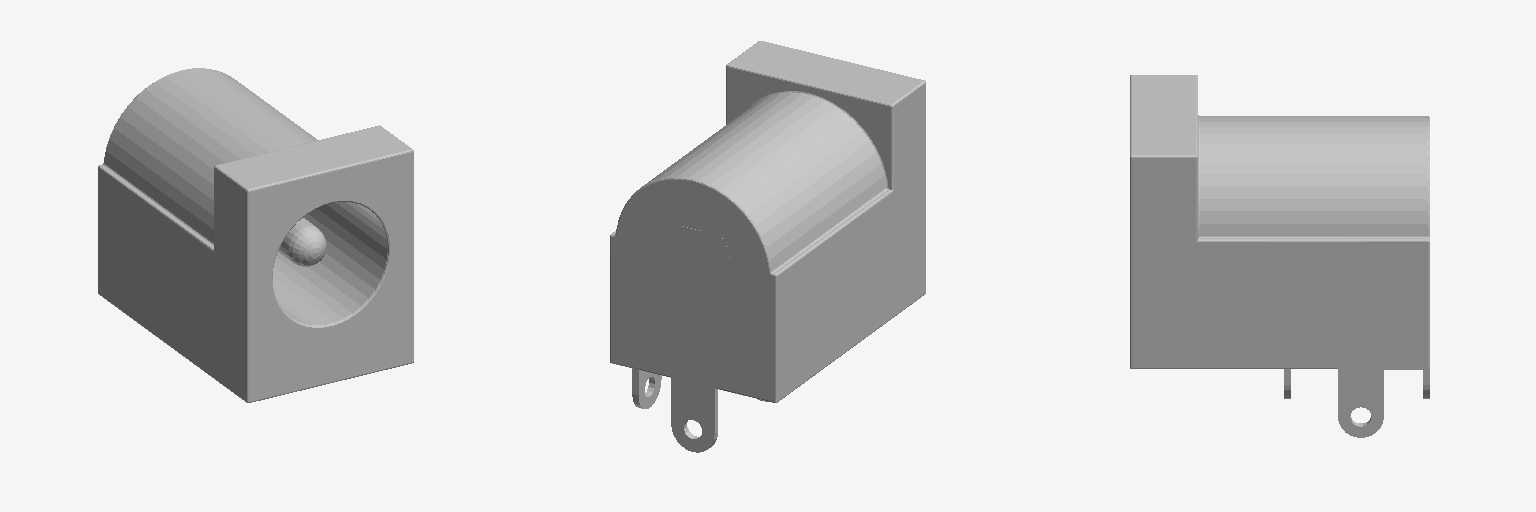
File: DC Jack v1.obj
3 renders of one model, left to right at view 1: azimuth 30°, elevation 25°; view 2: azimuth 150°, elevation 25°; view 3: azimuth 270°, elevation 25°, orthographic.
Visible parts, largest first — view 1: Solid1; view 2: Solid1; view 3: Solid1.
Part boxes in pixels (x1,y1,x2,y2): Solid1: (98,68,413,402); Solid1: (610,41,925,452); Solid1: (1130,75,1429,437).
Size of the model in its own units: 9.01 by 14.5 by 14.01.